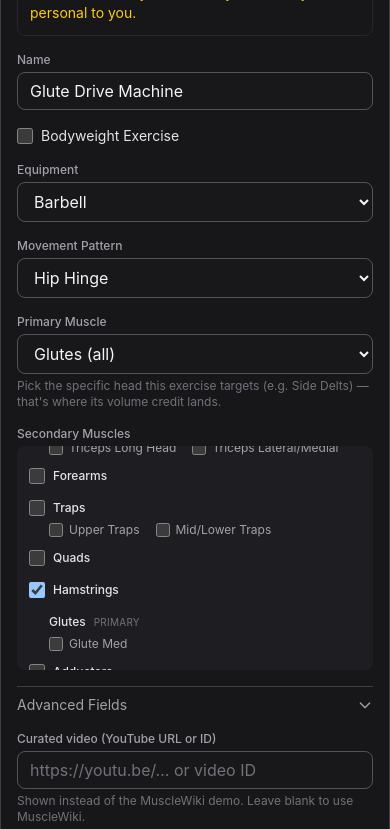
Test: ExerciseEditForm save reporting › saves a stock catalog row through the audited RPC and says so
This screenshot has width=390, height=829.
(page scrolled)
Click the checkbox labelled "Quads" at x=37, y=558, box top-left (29, 550), bottom-right (45, 566)
(page scrolled)
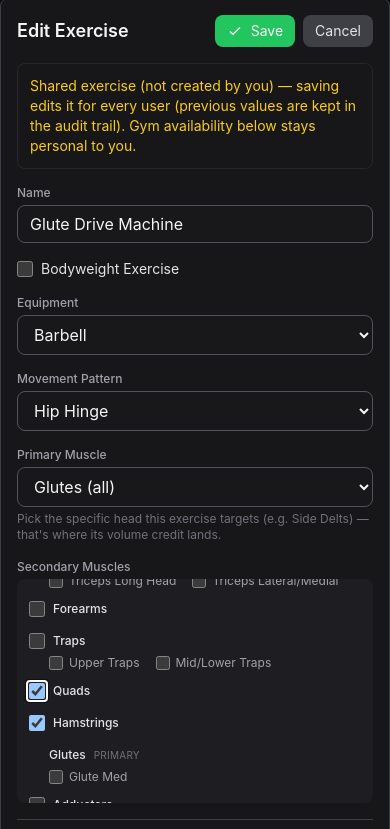
Click the button "Save" at x=255, y=31, box top-left (215, 15), bottom-right (295, 47)
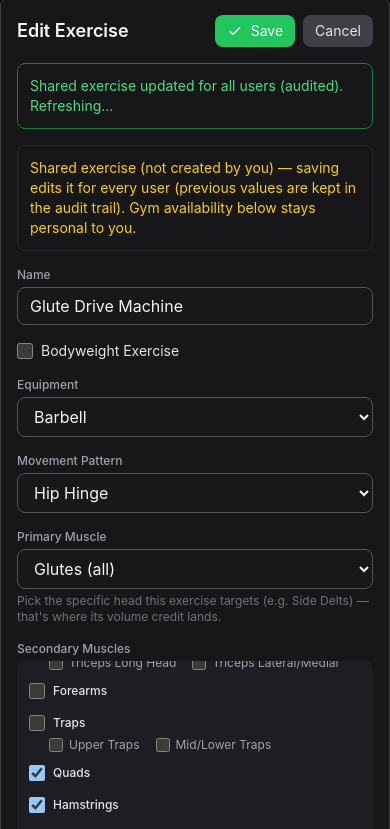
expect the text "Shared exercise updated for all users" is shown: met, box top-left (30, 77), bottom-right (343, 114)
